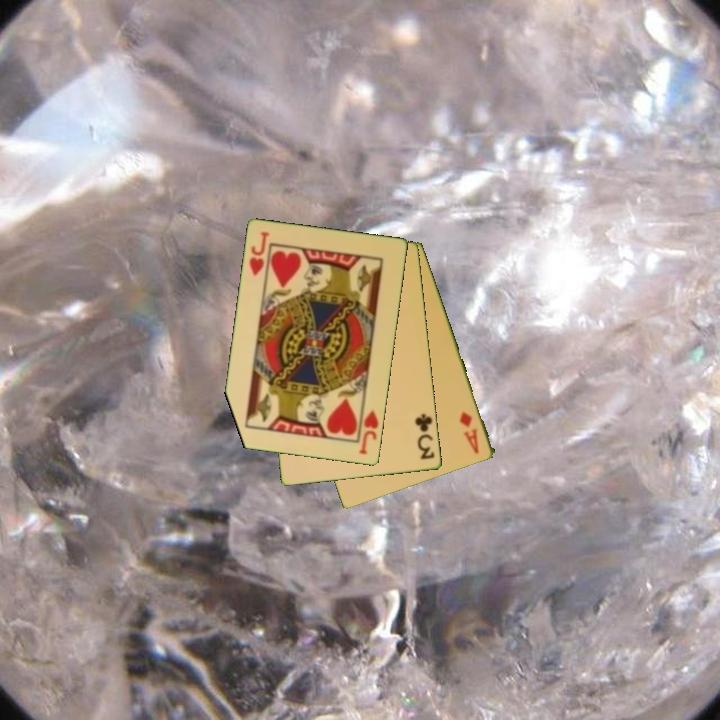3c: (412, 410, 438, 462)
Ad: (456, 408, 482, 457)
Jh: (246, 228, 272, 279), (356, 407, 382, 457)
